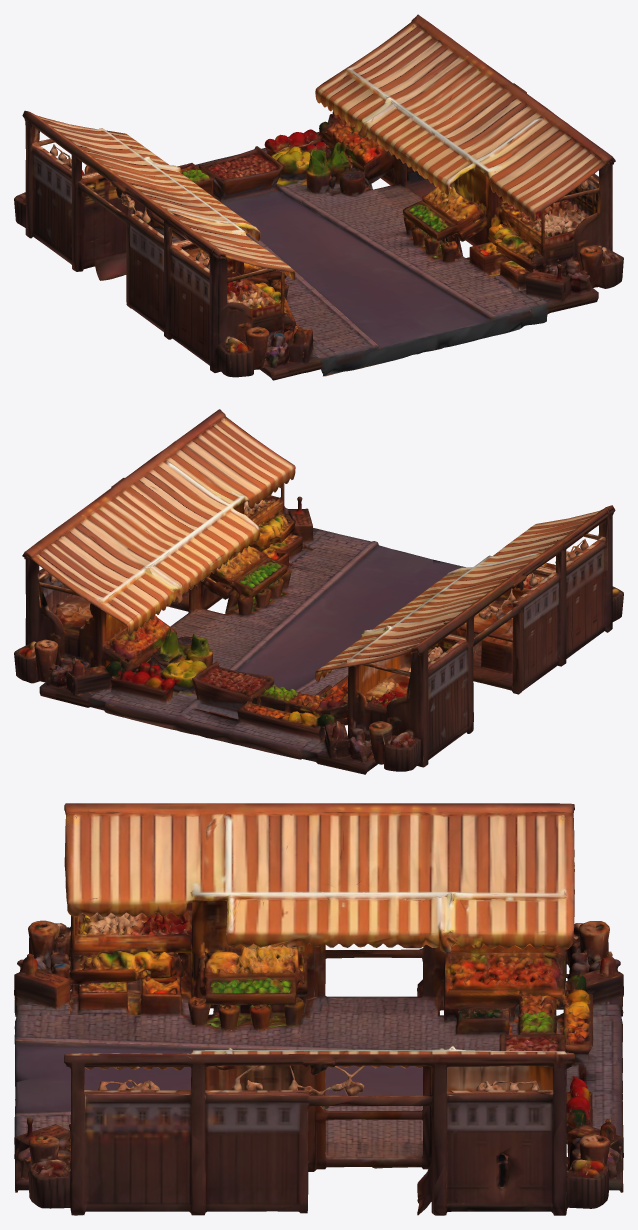
The model's file is vienna-market.glb.
3 views of the same model, one above another, from view 1: azimuth 30°, elevation 25°; view 2: azimuth 150°, elevation 25°; view 3: azimuth 270°, elevation 25° (orthographic). The views are drawn at different scales.
Visible parts, largest first — view 1: Mesh1.0; view 2: Mesh1.0; view 3: Mesh1.0.
Part boxes in pixels (x1,y1,x2,y2): Mesh1.0: [14, 14, 623, 380]; Mesh1.0: [14, 409, 623, 774]; Mesh1.0: [14, 803, 623, 1215].
Bounding box in the file's own units: 20.91 × 7.25 × 20.9.
Materials: 1 (1 with a texture image).
